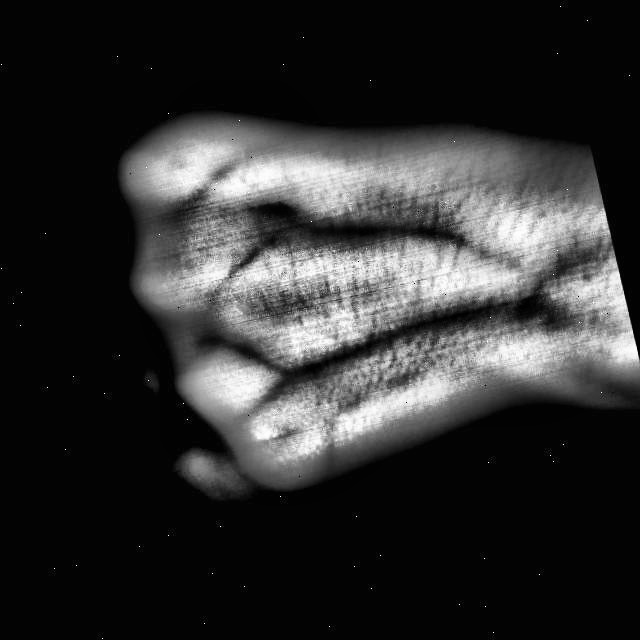Vein: (314, 282, 543, 382)
